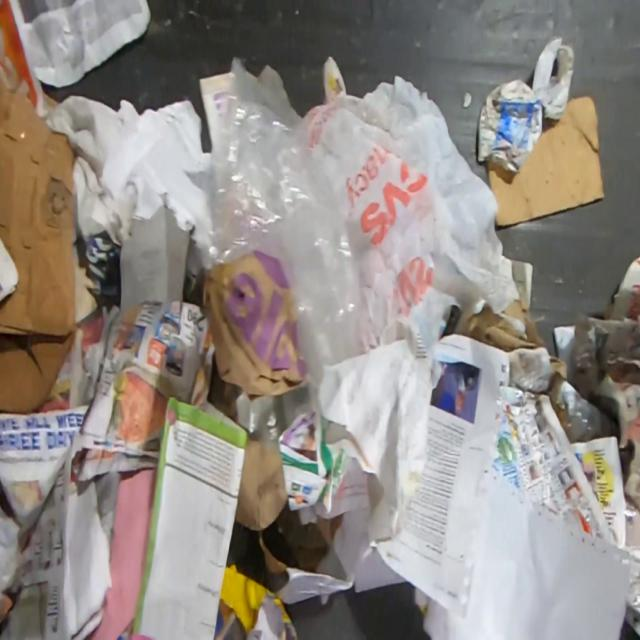cardboard: (0, 74, 77, 415), (200, 253, 304, 422), (486, 94, 606, 227), (234, 434, 344, 576), (118, 204, 192, 313), (476, 77, 544, 173), (443, 296, 548, 355), (532, 36, 576, 119), (544, 354, 569, 428)
soft_plastic: (294, 72, 522, 356), (200, 68, 365, 454), (555, 380, 621, 445), (622, 496, 640, 618)
